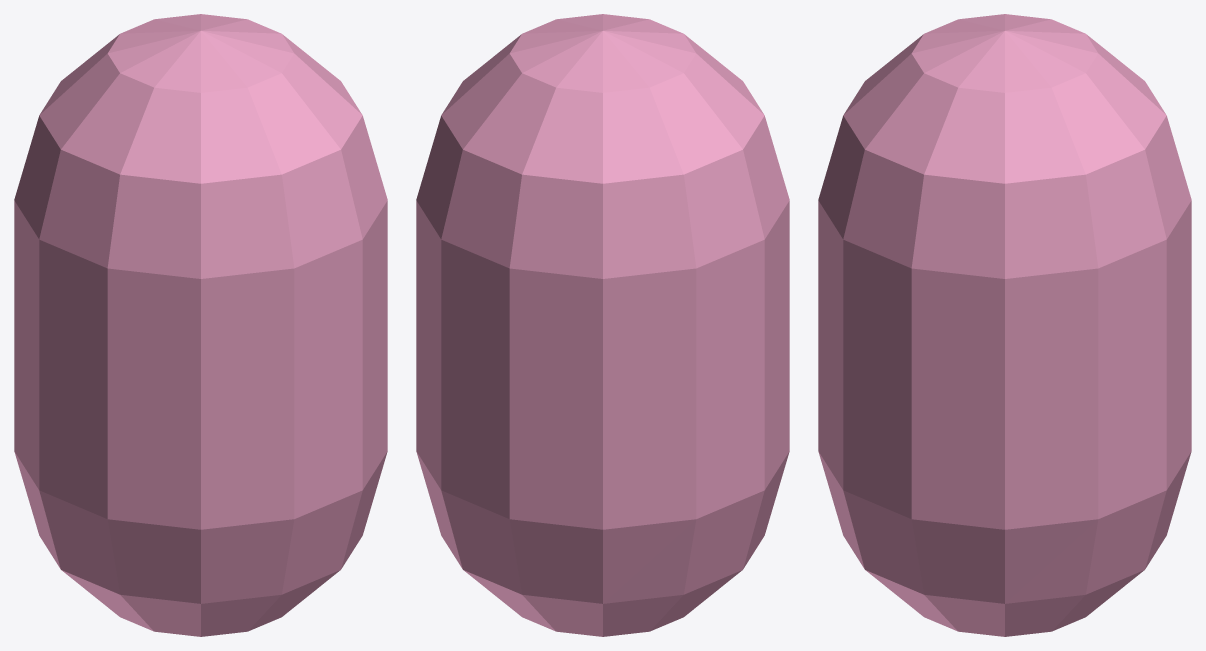
The model's file is smoke-grenade.glb.
The picture shows the model from 3 angles, left to right: view 1: azimuth 30°, elevation 25°; view 2: azimuth 150°, elevation 25°; view 3: azimuth 270°, elevation 25°; orthographic projection.
Visible parts, largest first — view 1: S1|SM_Smoke_Grenade#0; view 2: S1|SM_Smoke_Grenade#0; view 3: S1|SM_Smoke_Grenade#0.
Boxes of the visible parts, x1,y1,x2,y2 form: S1|SM_Smoke_Grenade#0: [14, 14, 387, 636]; S1|SM_Smoke_Grenade#0: [416, 14, 789, 636]; S1|SM_Smoke_Grenade#0: [818, 14, 1191, 636].
Bounding box in the file's own units: 0.0875 × 0.1523 × 0.0875.
